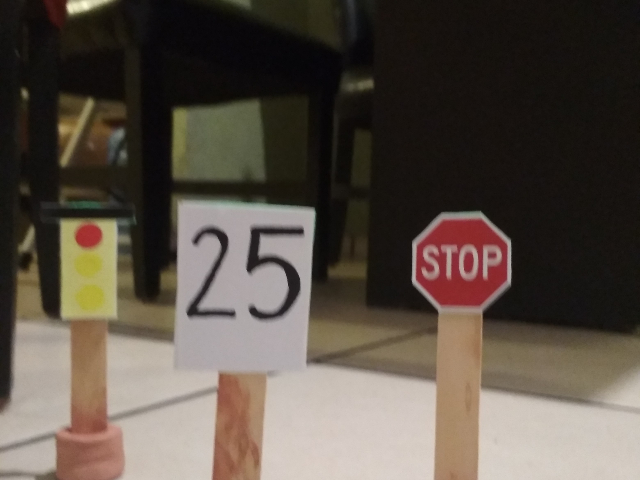Limit 25: (167, 191, 320, 379)
Red: (39, 203, 137, 325)
Stop: (408, 210, 516, 316)
